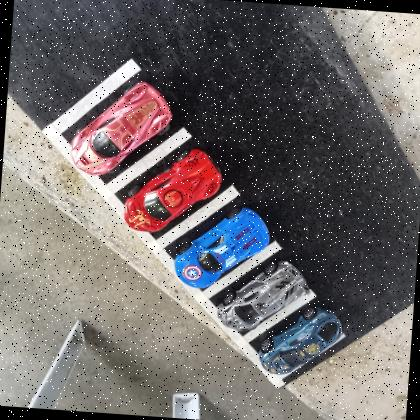Car: (69, 77, 176, 182), (122, 144, 224, 238), (172, 202, 272, 294), (214, 256, 312, 336), (257, 304, 349, 380)
